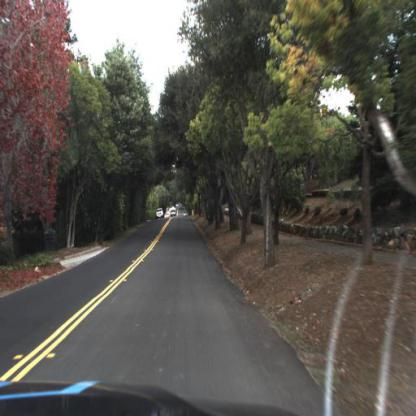car: (153, 204, 168, 222), (168, 207, 179, 223), (154, 206, 164, 222)
